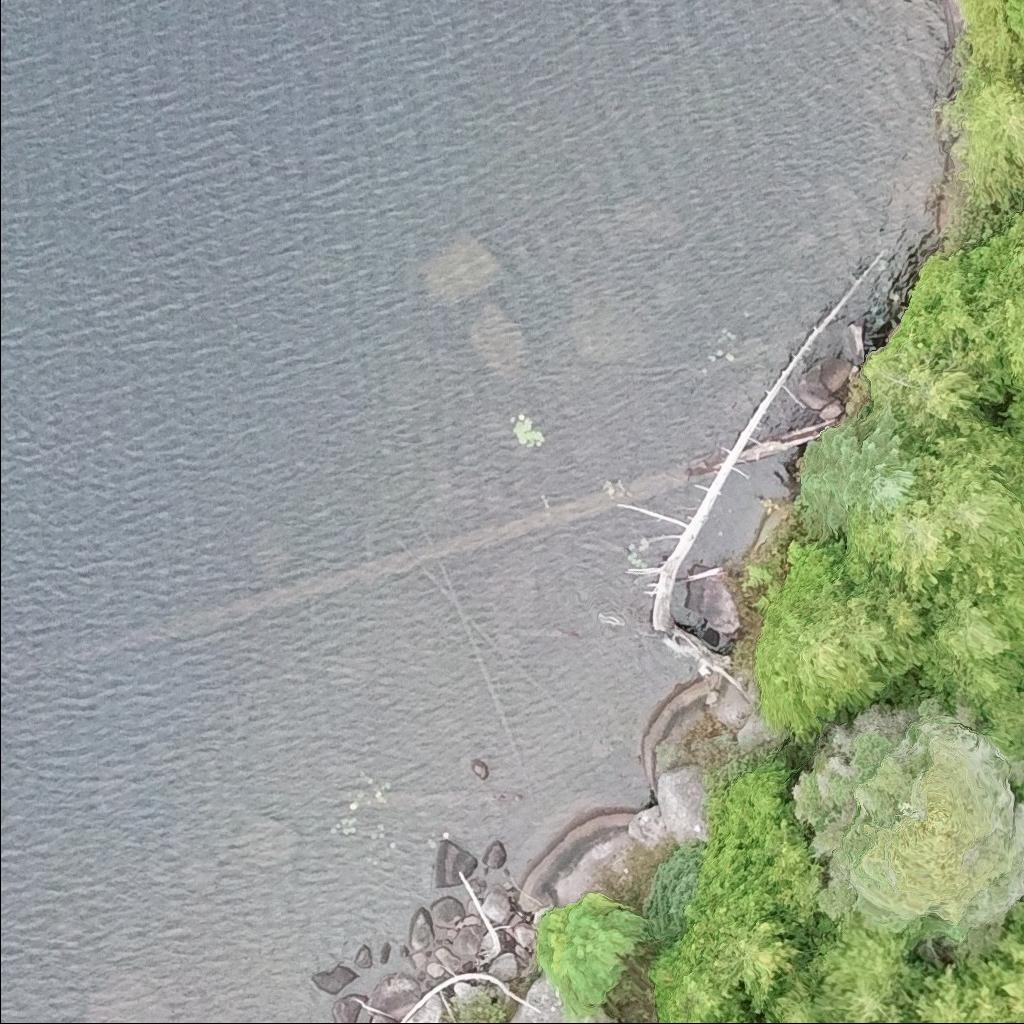crown: (786, 699, 1023, 948), (685, 754, 831, 924), (758, 565, 888, 740), (910, 411, 1023, 571), (799, 400, 924, 543), (862, 337, 989, 440), (684, 914, 813, 1015), (967, 202, 1023, 419), (843, 498, 953, 601), (918, 570, 1018, 662), (820, 915, 934, 995), (649, 938, 751, 1023), (835, 578, 916, 683), (916, 649, 1023, 718), (872, 573, 934, 669), (903, 959, 993, 1023), (966, 560, 1023, 660), (809, 974, 915, 1023), (976, 924, 1023, 1023), (770, 976, 828, 1023), (824, 1018, 854, 1023)
